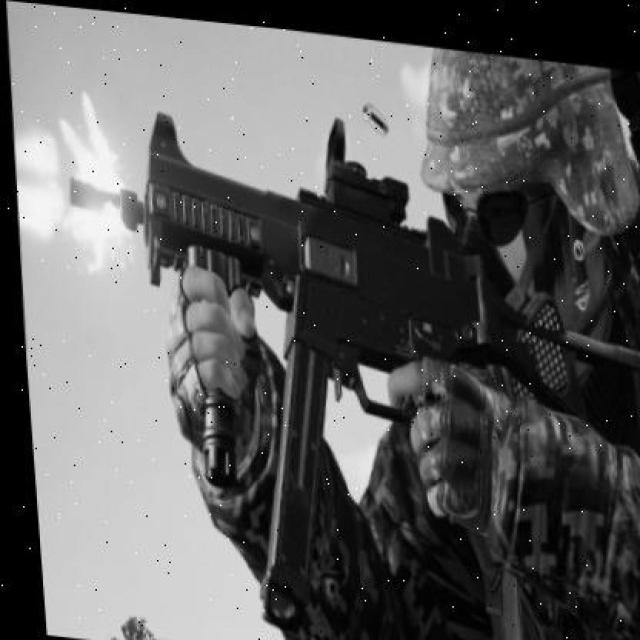weapon: (63, 110, 640, 630)
